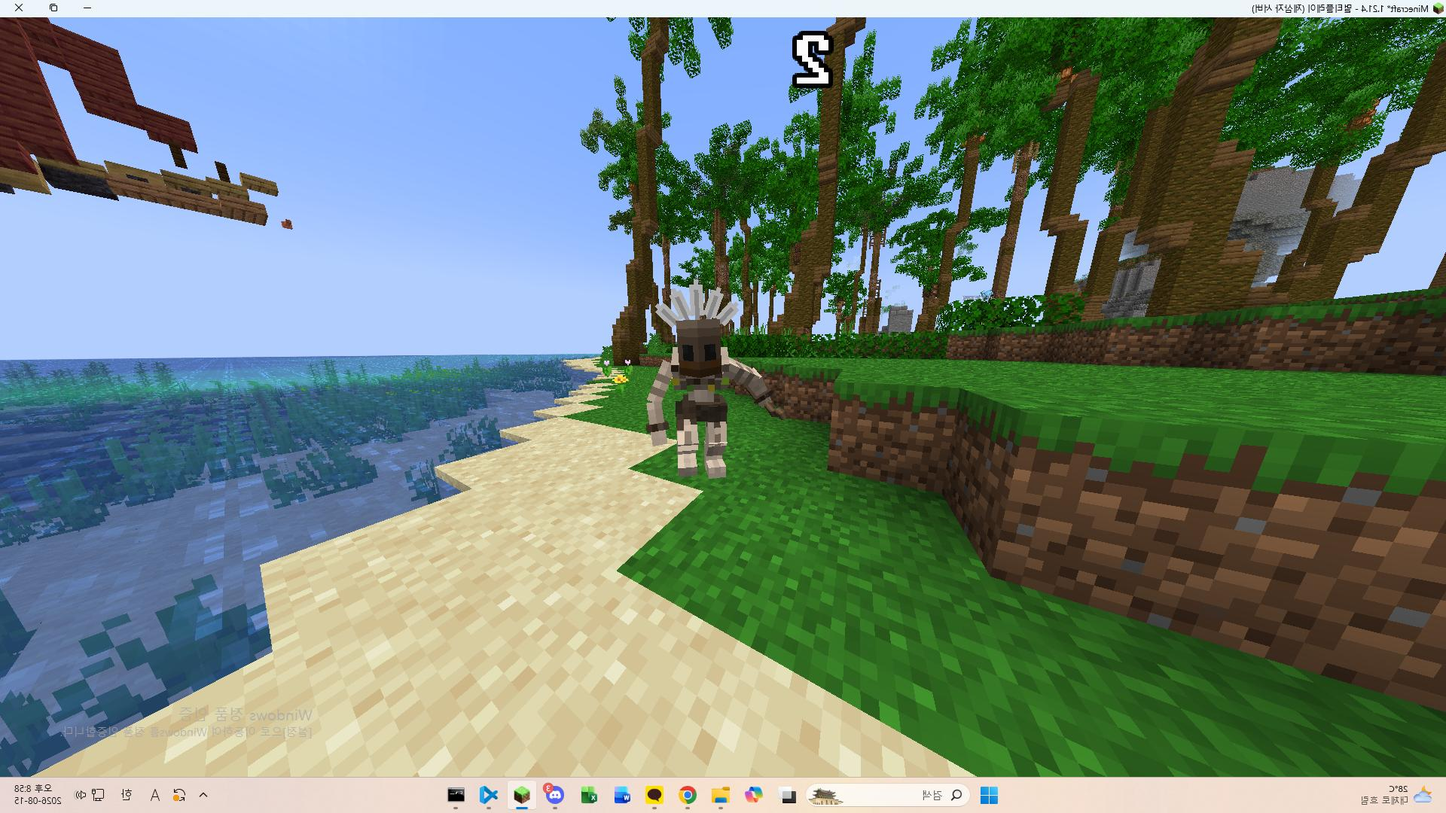bow_indian: (606, 288, 795, 511)
